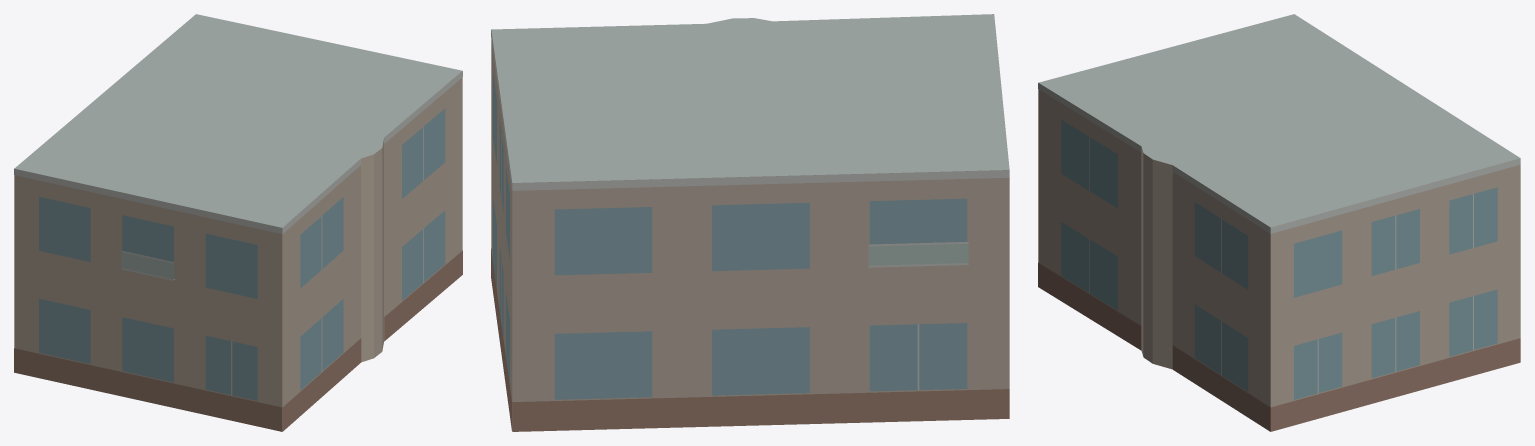
The model's file is survey-upis-32625333.glb.
The picture shows the model from 3 angles, left to right: view 1: azimuth 30°, elevation 25°; view 2: azimuth 150°, elevation 25°; view 3: azimuth 270°, elevation 25°; orthographic projection. The views are drawn at different scales.
Visible parts, largest first — view 1: survey-upis-32625333.tmp; view 2: survey-upis-32625333.tmp; view 3: survey-upis-32625333.tmp.
Part boxes in pixels (x1=…): survey-upis-32625333.tmp: x1=14, y1=14, x2=462, y2=431; survey-upis-32625333.tmp: x1=491, y1=14, x2=1009, y2=431; survey-upis-32625333.tmp: x1=1038, y1=14, x2=1520, y2=431.
Bounding box in the file's own units: 17.49 × 7.8 × 16.7.
